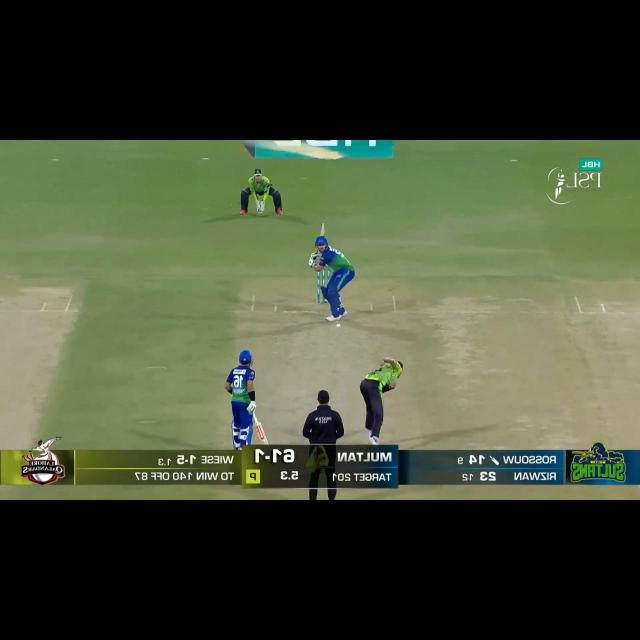bat: (253, 420, 270, 445), (314, 223, 326, 255)
toe: (318, 223, 327, 236)
